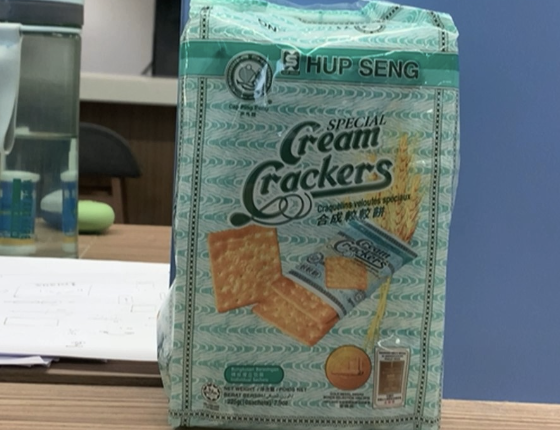crackers_200g-299g: (199, 13, 431, 416)
